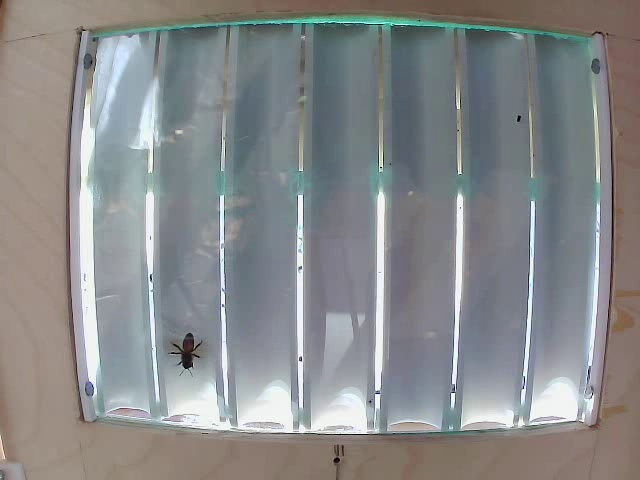bee: (150, 316, 212, 370)
